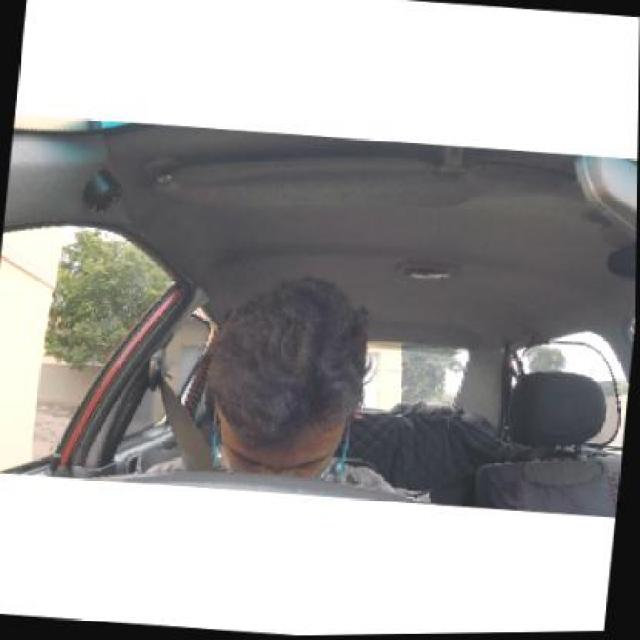drowsy: (209, 275, 377, 480)
